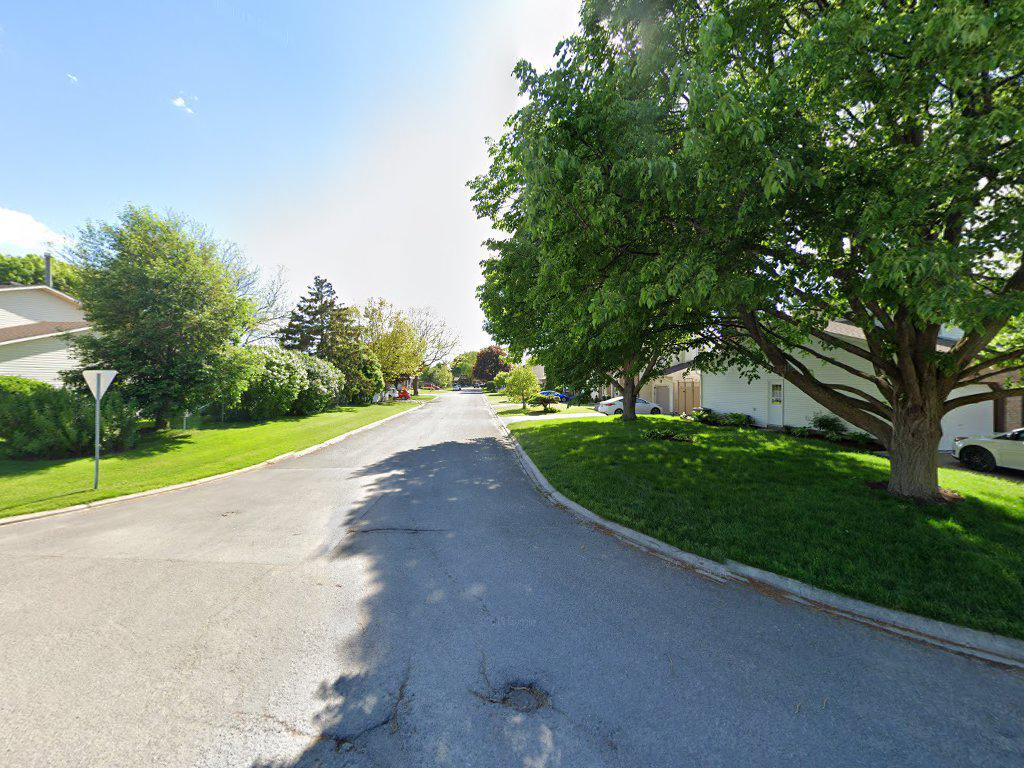trunk: (876, 332, 952, 514)
